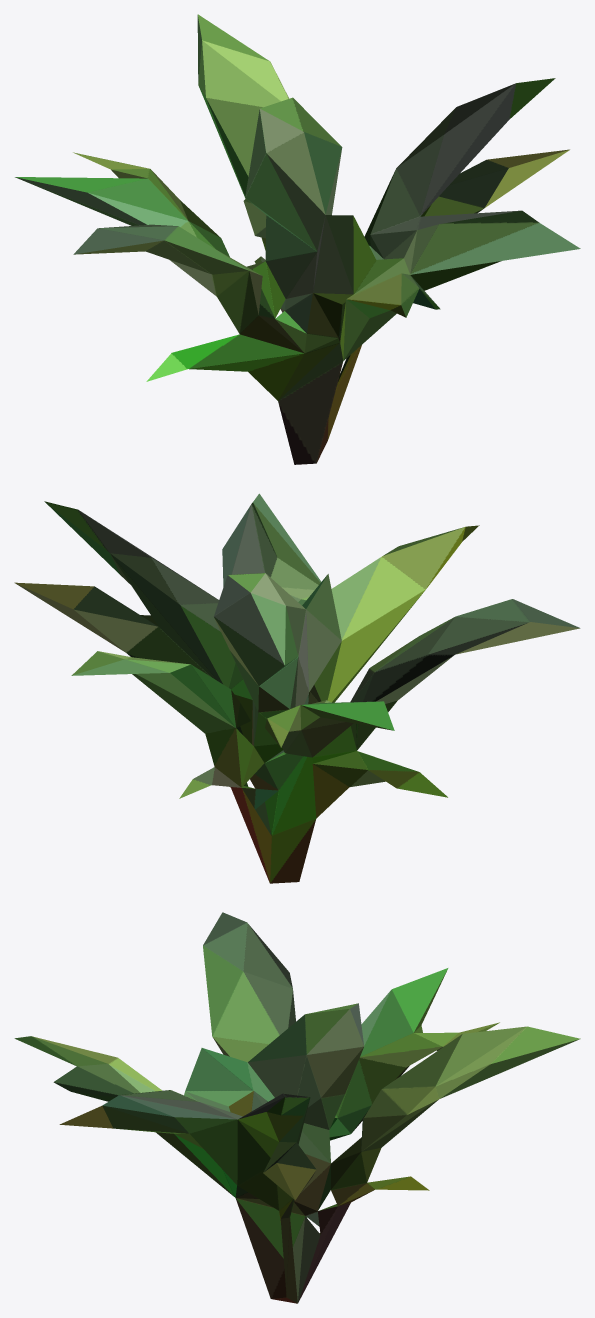
The model's file is plant.fbx.
3 views of the same model, one above another, from view 1: azimuth 30°, elevation 25°; view 2: azimuth 150°, elevation 25°; view 3: azimuth 270°, elevation 25° (orthographic). The views are drawn at different scales.
Visible parts, largest first — view 1: Mesh_0; view 2: Mesh_0; view 3: Mesh_0.
Boxes of the visible parts, box(x1,y1,x2,y2) form: Mesh_0: box(15, 14, 580, 464); Mesh_0: box(14, 493, 580, 883); Mesh_0: box(14, 912, 580, 1303).
Size of the model in its own units: 118 by 69.65 by 119.
1 material, 1 textured.
